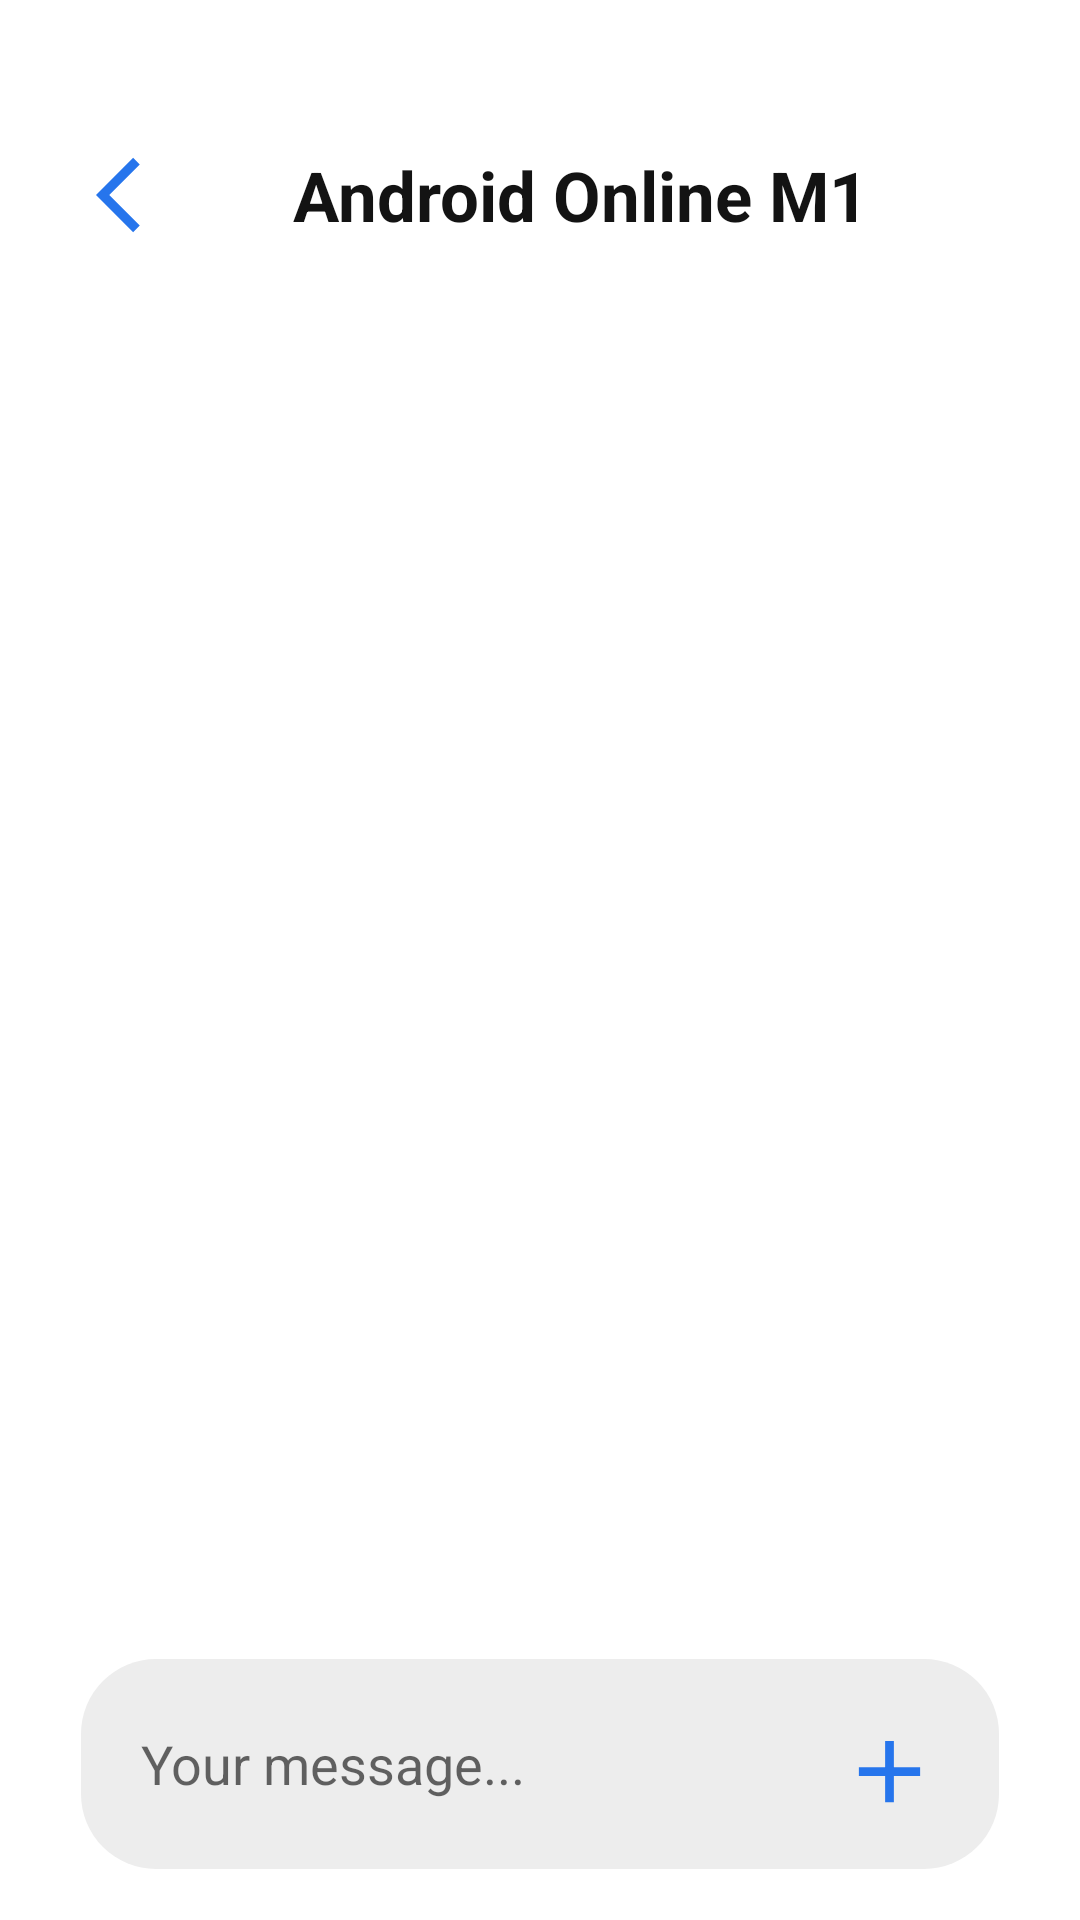

Icon click points for this 1080px×1920px phone screenshot, format point (x, y):
add: point (889, 1772)
arrow back: point (118, 195)
